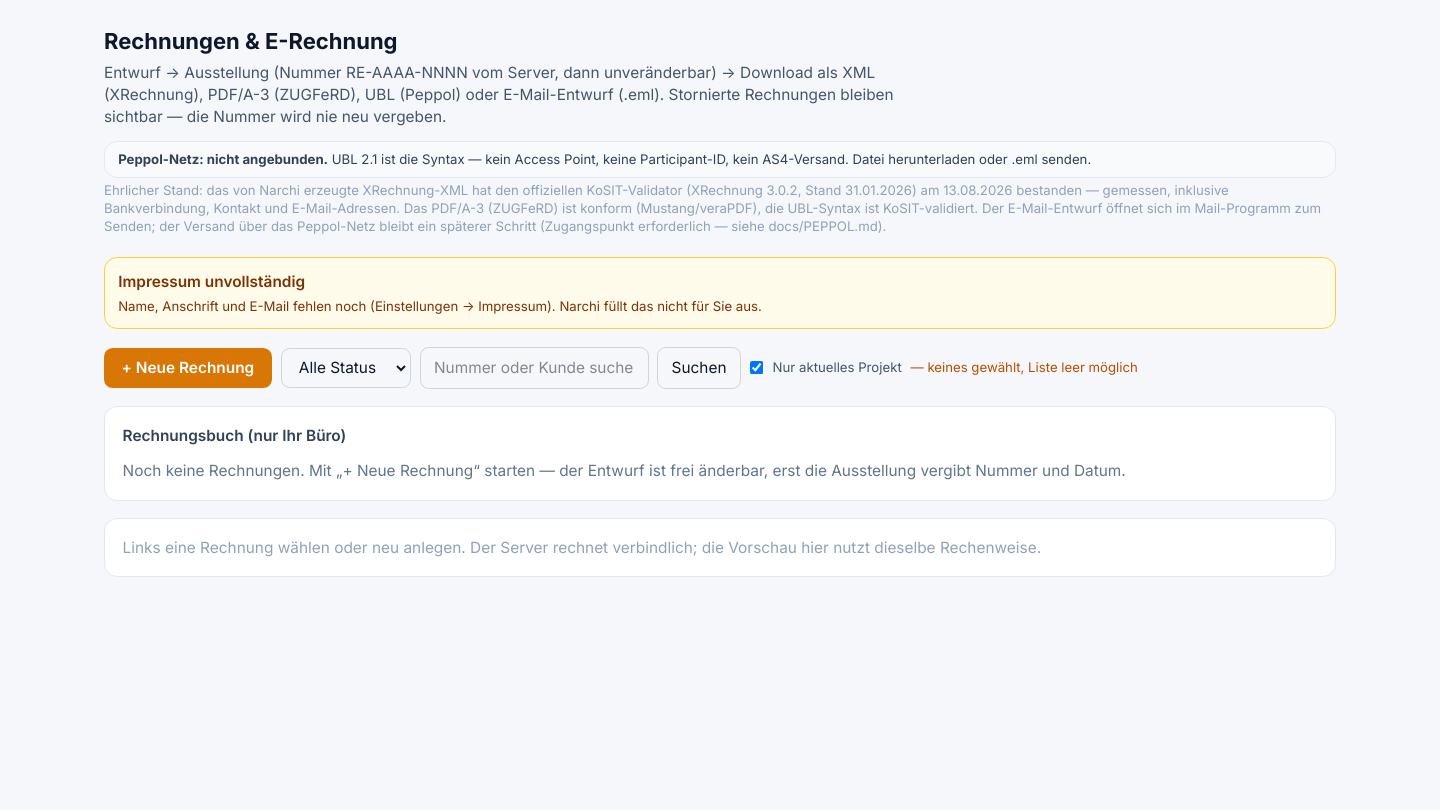
Scenario: Page Rechnungen §116 › état vide honnête + ouverture de l'éditeur
This screenshot has width=1440, height=810.
Click the button "+ Neue Rechnung" at (188, 368), box [104,348,272,388]
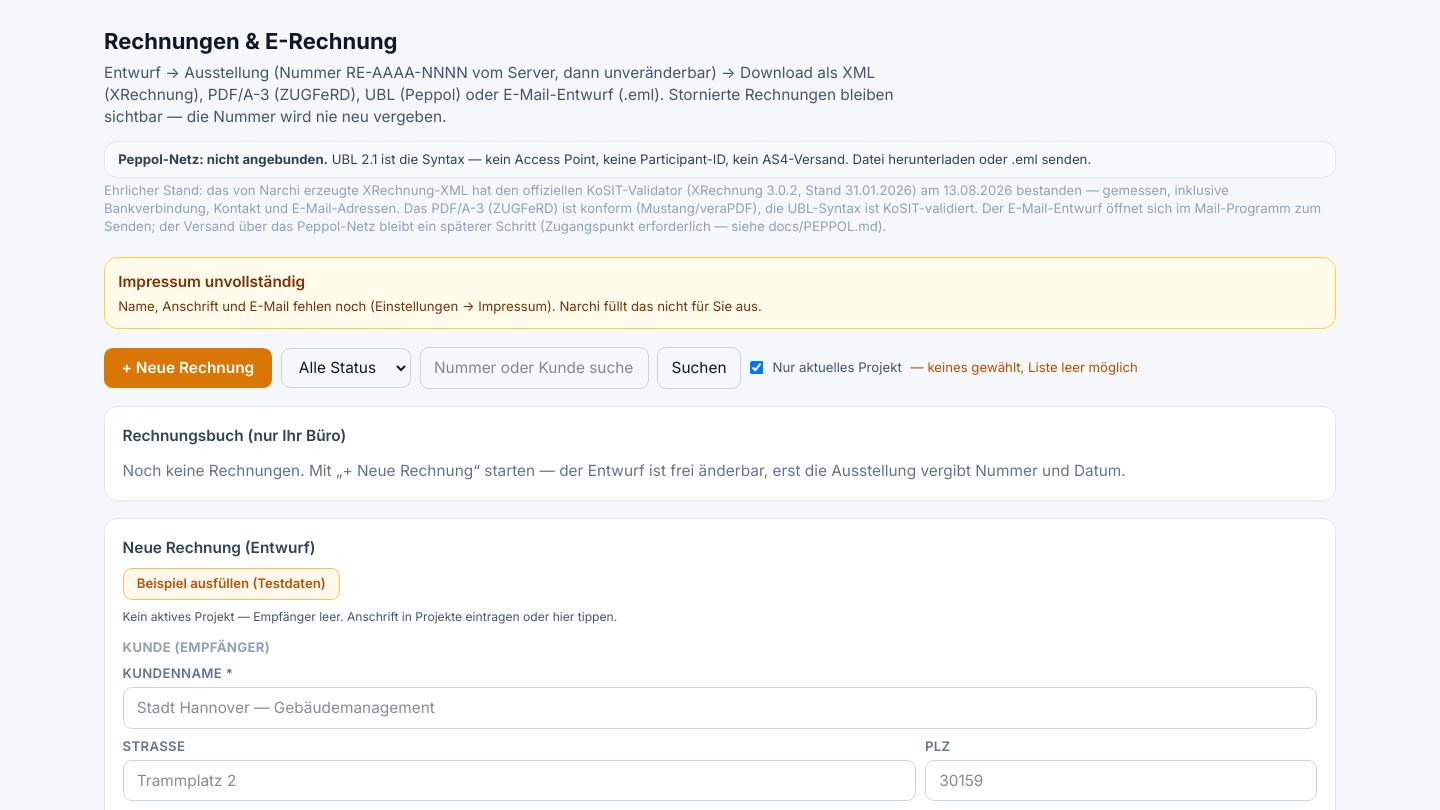
expect the text "KoSIT" is shown: met, box [104,182,1321,234]
expect the text "Kundenname" is shown: met, box [123,665,233,681]
